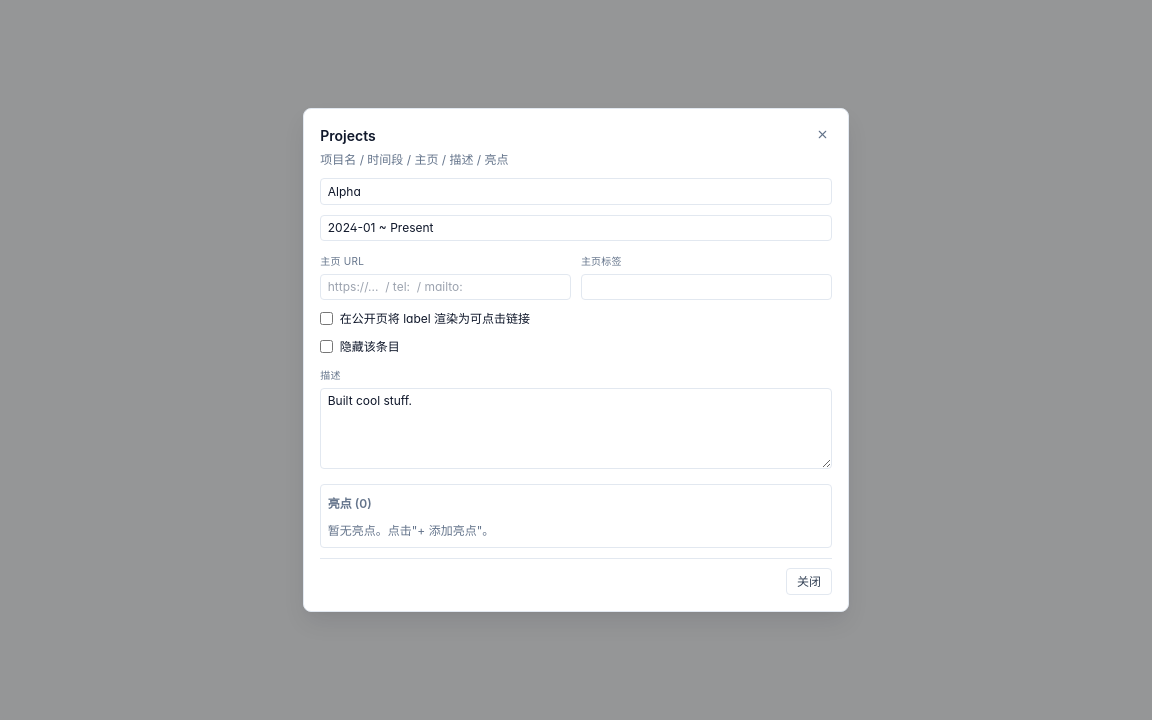
Test: ProjectsDialog (AC-03, AC-05, AC-12, AC-13, AC-14) › URL whitelist rejects javascript: scheme (AC-13)
Type "https://[::1]:8080" into the field with test id "projects-website-url". click: point(446, 287)
box: [320,274,571,300]
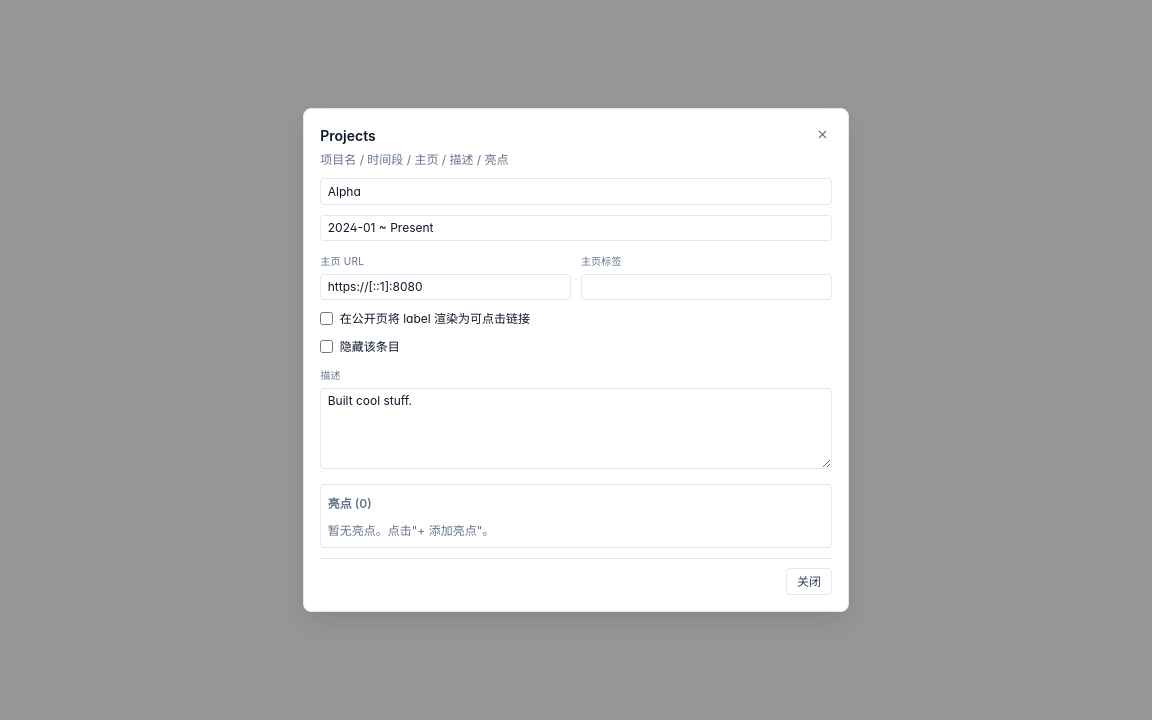
Replace the text in the field with test id "projects-website-url" with "tel:+1-555-0100". click: point(446, 287)
box: [320,274,571,300]
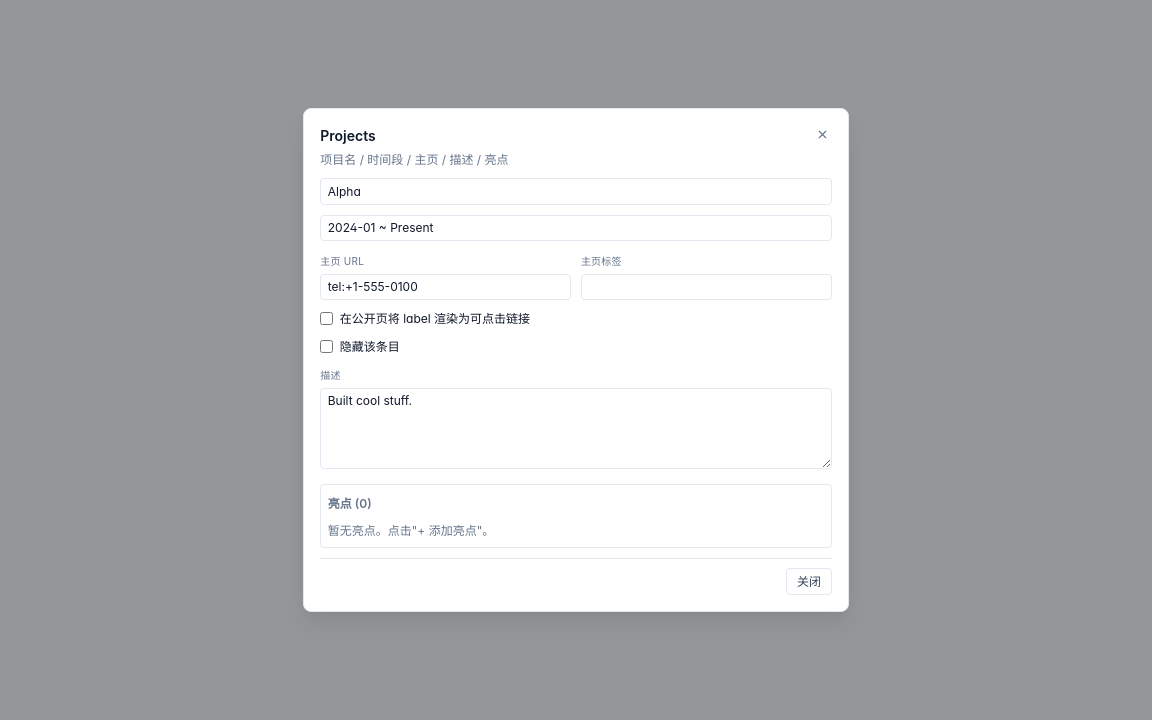
Replace the text in the field with test id "projects-website-url" with "mailto:a@b.com". click: point(446, 287)
box: [320,274,571,300]
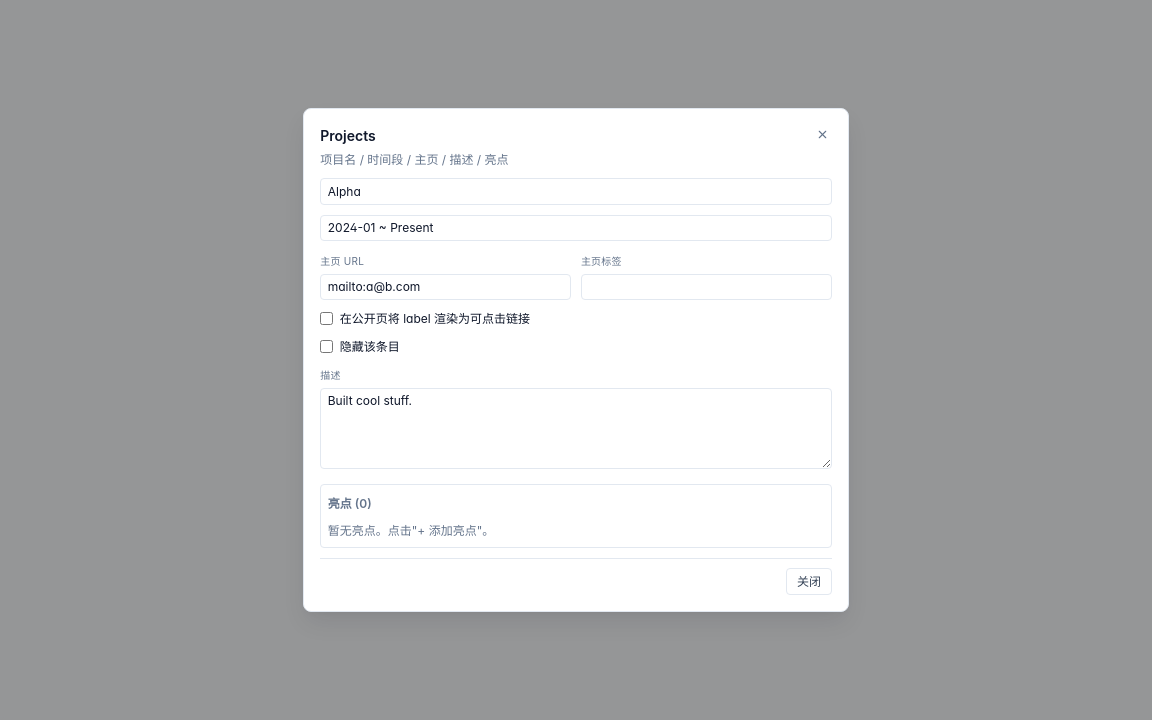
Replace the text in the field with test id "projects-website-url" with "javascript:alert(1)". click: point(446, 287)
box: [320,274,571,300]
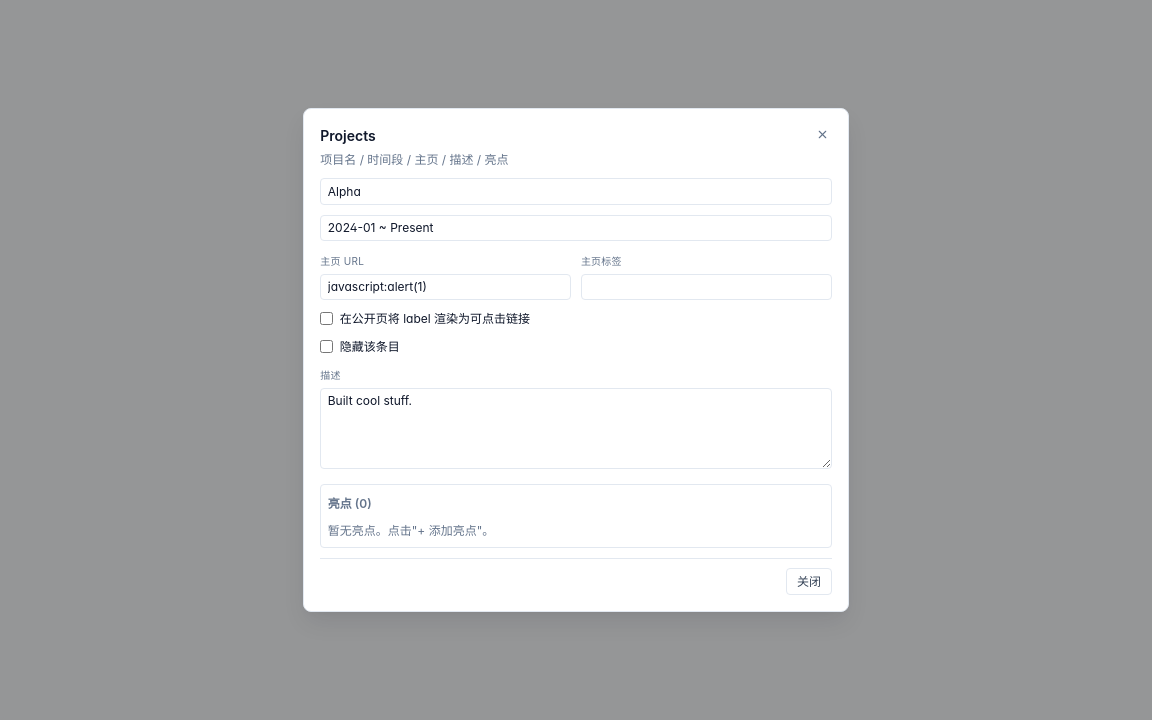
Leave the field with test id "projects-website-url", box [320,274,571,300]
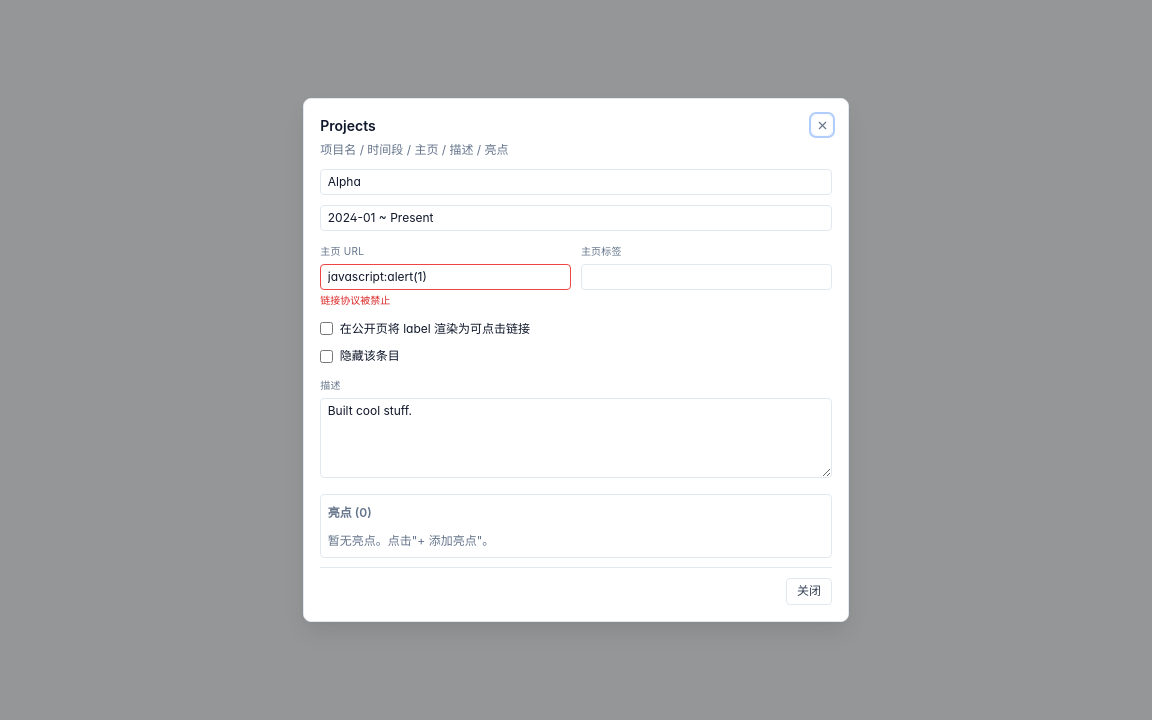
Expected: the message "链接协议被禁止" is shown, [320,294,390,306]
